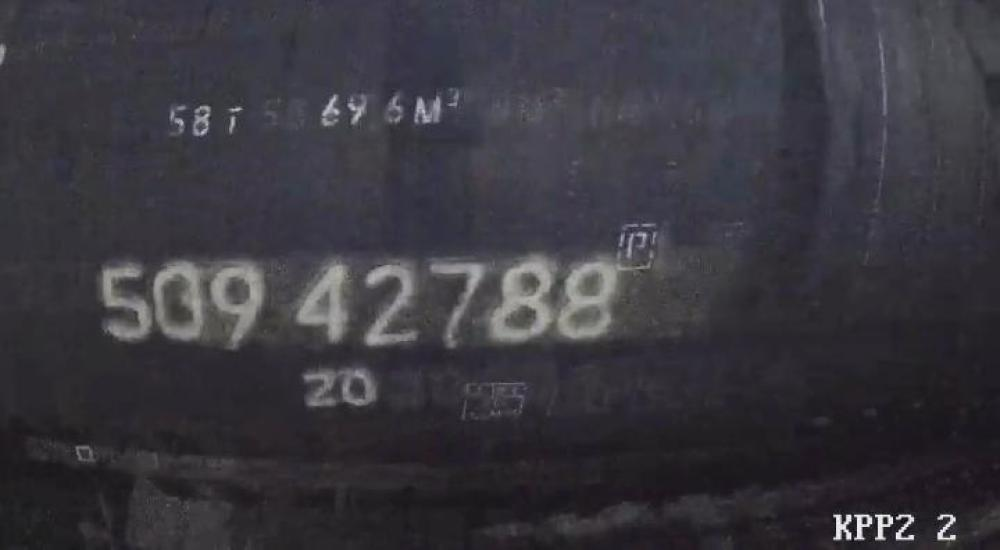Wagon-number: (93, 250, 625, 358)
